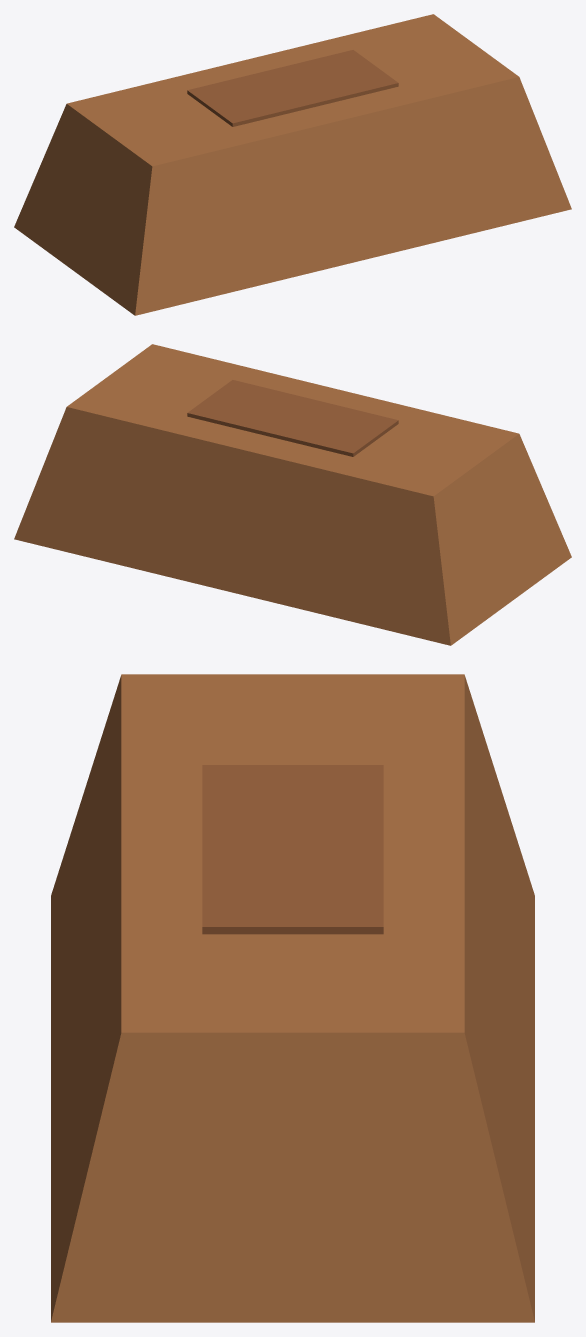
File: copper_bar.glb
3 views of the same model, one above another, from view 1: azimuth 30°, elevation 25°; view 2: azimuth 150°, elevation 25°; view 3: azimuth 270°, elevation 25° (orthographic). The views are drawn at different scales.
Visible parts, largest first — view 1: copper_bar; view 2: copper_bar; view 3: copper_bar.
Boxes of the visible parts, x1=… form: copper_bar: x1=14, y1=14, x2=571, y2=315; copper_bar: x1=14, y1=344, x2=571, y2=645; copper_bar: x1=51, y1=674, x2=534, y2=1322.
Size of the model in its own units: 0.5 by 0.144 by 0.24.
